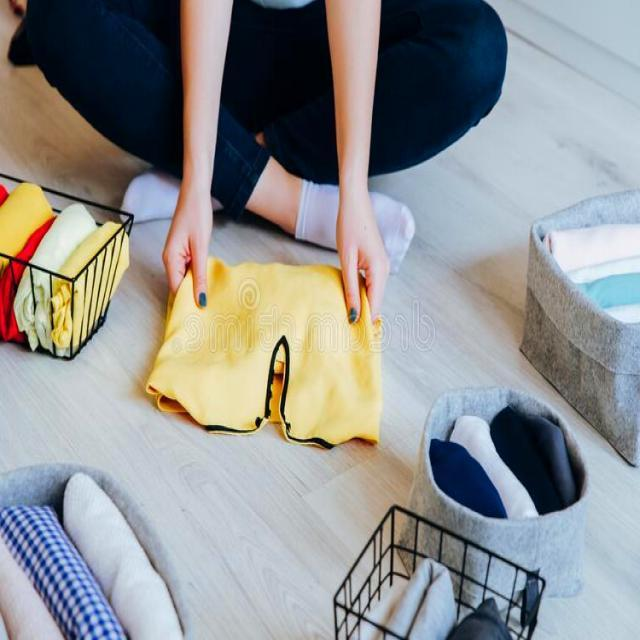clothes: (154, 254, 376, 444), (0, 476, 162, 640), (432, 415, 569, 528)
